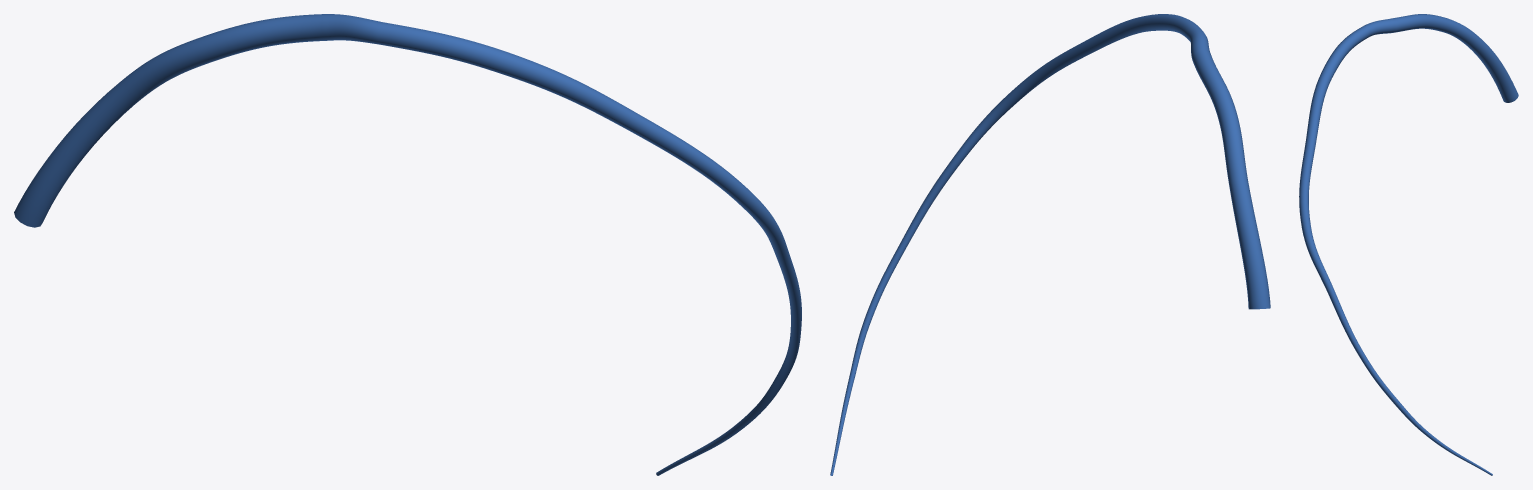
3 renders of one model, left to right at view 1: azimuth 30°, elevation 25°; view 2: azimuth 150°, elevation 25°; view 3: azimuth 270°, elevation 25°, orthographic. The views are drawn at different scales.
Visible parts, largest first — view 1: 左侧髂腰静脉; view 2: 左侧髂腰静脉; view 3: 左侧髂腰静脉.
Part boxes in pixels (box(x1,y1,x2,y2)): 左侧髂腰静脉: box(14, 14, 801, 475); 左侧髂腰静脉: box(830, 14, 1270, 475); 左侧髂腰静脉: box(1299, 14, 1518, 475).
Bounding box in the file's own units: 0.1462 × 0.1332 × 0.0767.
